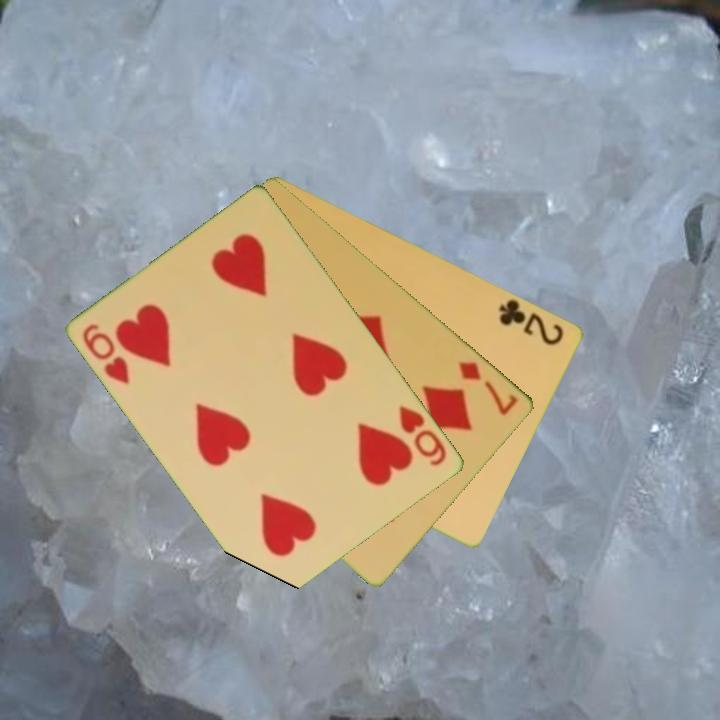2c: (496, 295, 567, 348)
6h: (79, 320, 134, 388), (396, 402, 451, 469)
7d: (455, 357, 522, 419)
